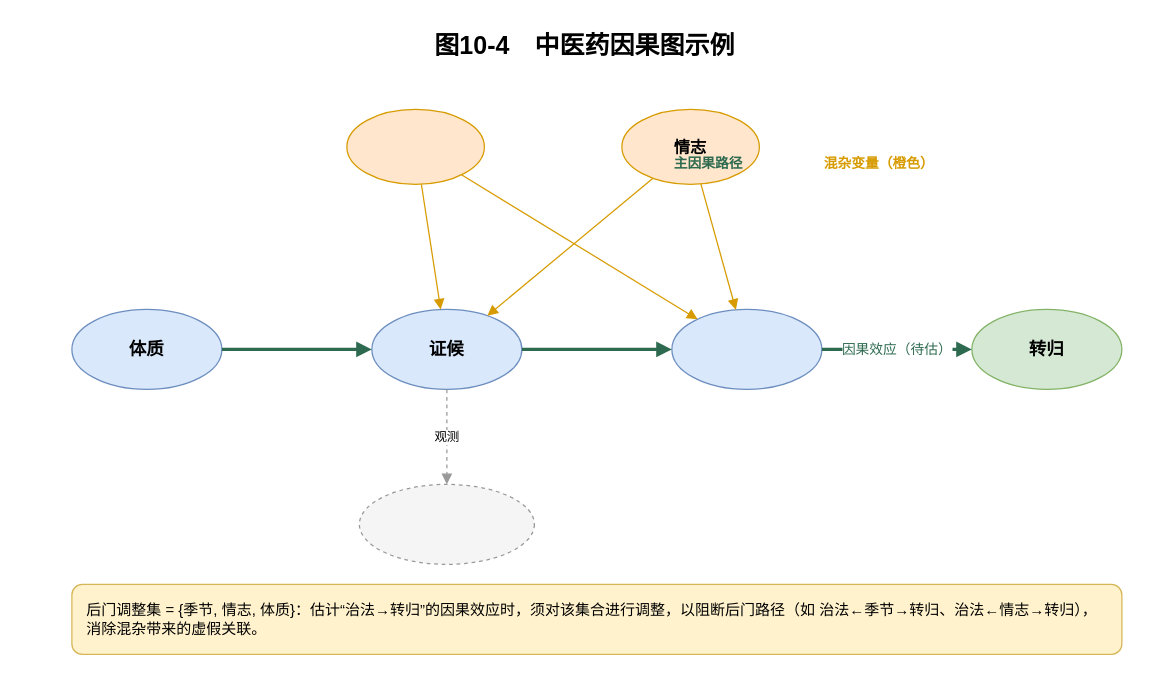
The diagram is 1168 pixels wide and 676 high, and some of its shapes have lost their labels. Each missing label, with the centre of its shape:
季节: point 415,146
治法: point 746,348
舌脉表现 （观测指标/代理）: point 446,523
